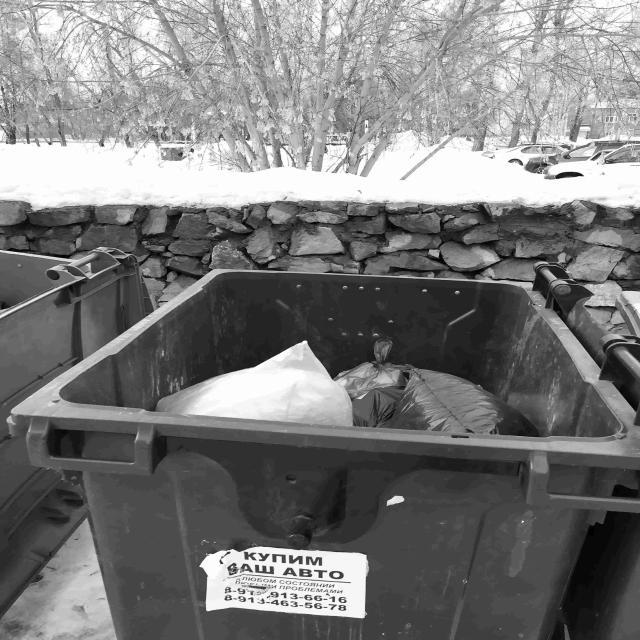bin: (15, 271, 616, 640)
plastic: (156, 339, 548, 438)
